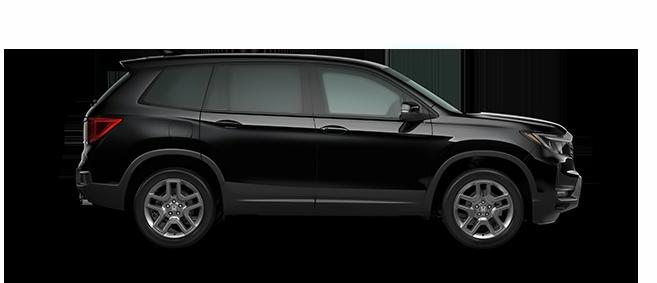Car hood: (452, 103, 566, 134)
Driver-s door - -F-R-: (301, 47, 434, 230)
Fender - -F-R-: (425, 102, 542, 201)
Fender - -R-R-: (98, 46, 202, 185)
Front bumper: (520, 145, 585, 227)
Headlight - -R-: (520, 130, 574, 159)
Passenger-s door - -R-R-: (195, 51, 325, 229)
Rear bumper: (67, 147, 134, 215)
Rear light - -R-: (79, 115, 122, 152)
Side bumper - -R-: (213, 182, 440, 225)
Side mirror - -R-: (398, 100, 429, 124)
